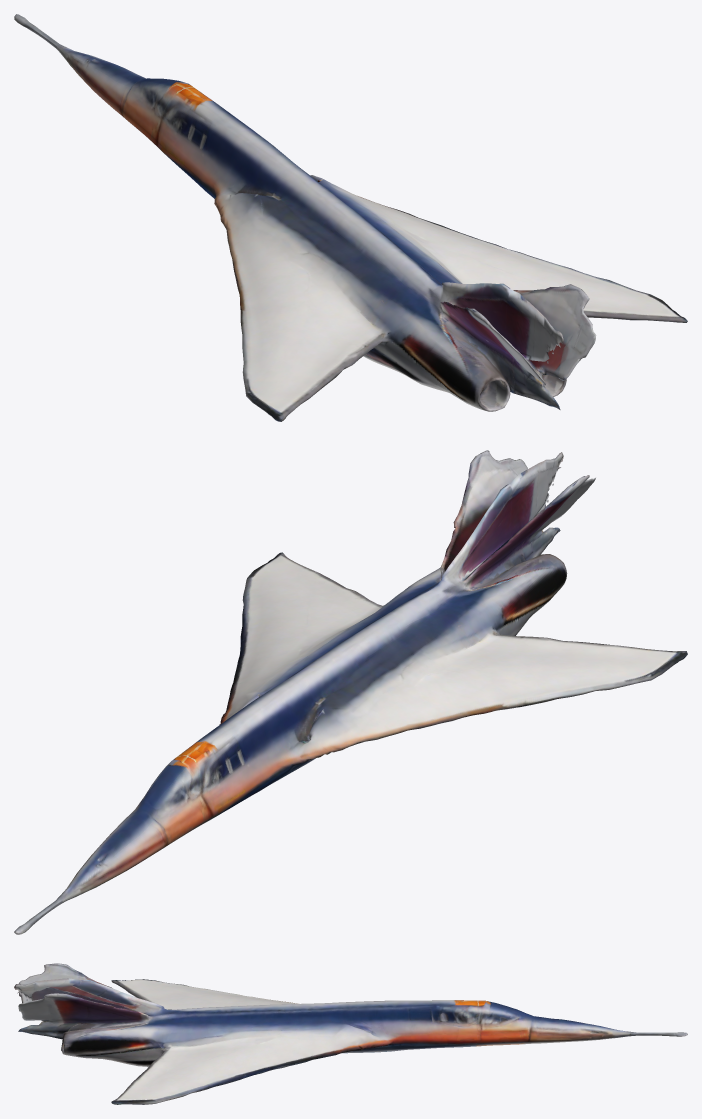
The model's file is jetsketch2.glb.
3 renders of one model, top to bottom at view 1: azimuth 30°, elevation 25°; view 2: azimuth 150°, elevation 25°; view 3: azimuth 270°, elevation 25°, orthographic. The views are drawn at different scales.
Size of the model in its own units: 0.8757 by 0.2872 by 2.03.
1 material, 1 textured.
